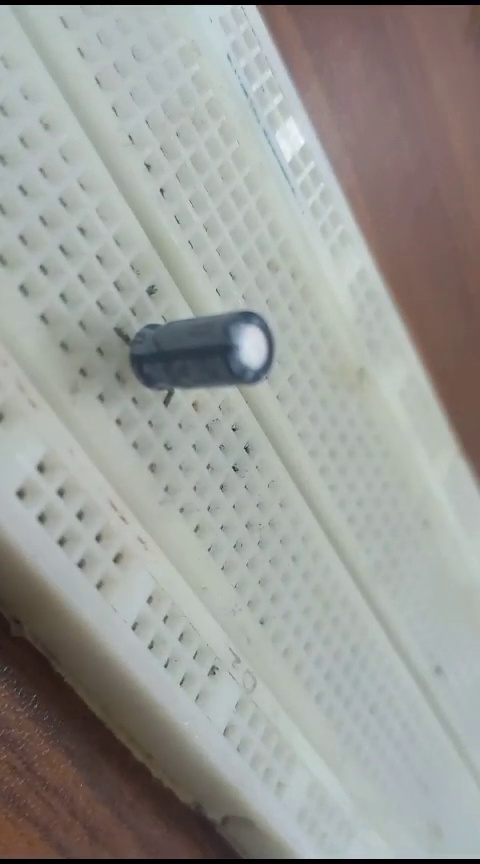capacitor: (106, 292, 280, 412)
